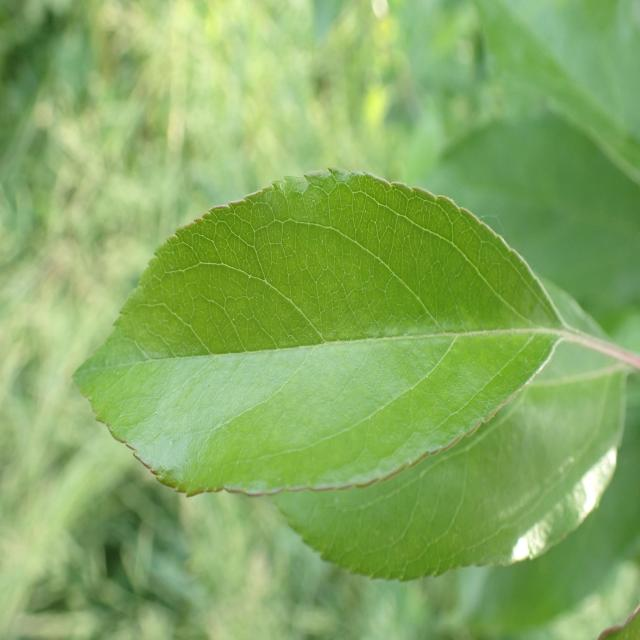healthy: (71, 166, 564, 503), (273, 283, 625, 582)
